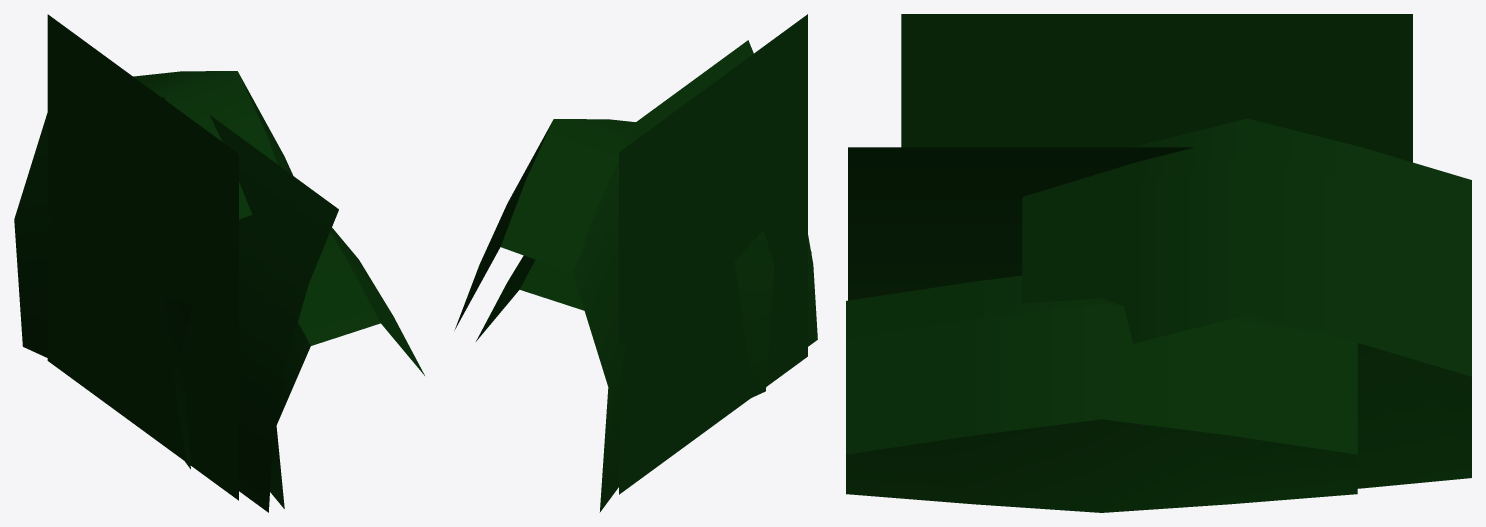
Rendered from Grass_plane_01.fbx.
3 views of the same model, side by side, from view 1: azimuth 30°, elevation 25°; view 2: azimuth 150°, elevation 25°; view 3: azimuth 270°, elevation 25° (orthographic). The views are drawn at different scales.
Parts seen in each view (by area): view 1: Grass_plane_01_LOD0; view 2: Grass_plane_01_LOD0; view 3: Grass_plane_01_LOD0.
Part boxes in pixels (bbox=[...]): Grass_plane_01_LOD0: bbox=[14, 14, 424, 512]; Grass_plane_01_LOD0: bbox=[454, 14, 817, 512]; Grass_plane_01_LOD0: bbox=[846, 14, 1471, 512].
Size of what is drawn, in the model's own units: 62.26 by 100 by 122.
